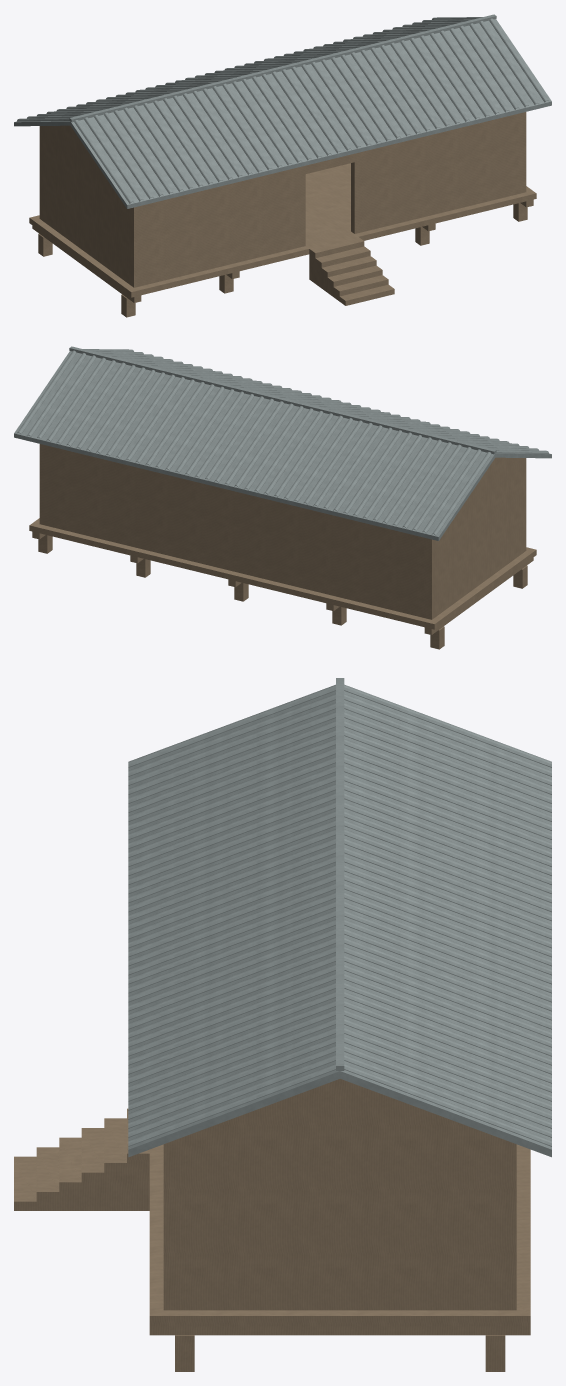
Rendered from warehouse-B-organized-local-C2.glb.
3 views of the same model, one above another, from view 1: azimuth 30°, elevation 25°; view 2: azimuth 150°, elevation 25°; view 3: azimuth 270°, elevation 25° (orthographic). The views are drawn at different scales.
Visible parts, largest first — view 1: B_roofbed_-1, B_frontwall_-1, B_frontwall_1, B_floor, B_sidewall_-1, B_ridge, B_gable_-1, B_step_5, B_step_4, B_step_3, B_step_2, B_step_1 (+47 smaller); view 2: B_backwall, B_roofbed_1, B_sidewall_-1, B_floor, B_ridge, B_gable_-1, B_cover_1_11, B_cover_1_20, B_cover_1_22, B_cover_1_28, B_cover_1_35, B_cover_1_39 (+39 smaller); view 3: B_sidewall_1, B_roofbed_-1, B_roofbed_1, B_gable_1, B_floor, B_joist_4, B_ridge, B_frontwall_1, B_backwall, B_step_4, B_step_3, B_step_2 (+89 smaller).
Boxes of the visible parts, <box> form: B_roofbed_-1: <box>70,19,551,208</box>; B_frontwall_-1: <box>130,165,305,287</box>; B_frontwall_1: <box>351,112,526,233</box>; B_floor: <box>29,163,536,297</box>; B_sidewall_-1: <box>43,136,130,284</box>; B_ridge: <box>69,14,496,122</box>; B_gable_-1: <box>39,125,110,184</box>; B_step_5: <box>309,237,364,283</box>; B_step_4: <box>315,246,370,288</box>; B_step_3: <box>321,256,376,292</box>; B_step_2: <box>327,265,382,296</box>; B_step_1: <box>333,275,388,301</box>; B_backwall: <box>39,444,435,619</box>; B_roofbed_1: <box>14,351,495,540</box>; B_sidewall_-1: <box>435,468,522,616</box>; B_floor: <box>29,518,536,629</box>; B_ridge: <box>69,346,496,454</box>; B_gable_-1: <box>455,457,526,516</box>; B_cover_1_11: <box>323,425,382,509</box>; B_cover_1_20: <box>234,403,293,487</box>; B_cover_1_22: <box>214,398,274,482</box>; B_cover_1_28: <box>155,384,214,468</box>; B_cover_1_35: <box>86,367,145,451</box>; B_cover_1_39: <box>46,357,106,441</box>; B_sidewall_1: <box>177,1150,502,1310</box>; B_roofbed_-1: <box>128,691,340,1157</box>; B_roofbed_1: <box>340,691,551,1157</box>; B_gable_1: <box>163,1079,516,1150</box>; B_floor: <box>149,1144,530,1326</box>; B_joist_4: <box>149,1326,530,1335</box>; B_ridge: <box>336,678,344,1070</box>; B_frontwall_1: <box>163,1150,177,1310</box>; B_backwall: <box>502,1150,516,1310</box>; B_step_4: <box>104,1118,126,1210</box>; B_step_3: <box>81,1128,104,1210</box>; B_step_2: <box>59,1137,81,1210</box>.
Size of the model in its own units: 13 by 4.95 by 7.62.
Materials: 3 (2 with a texture image).
